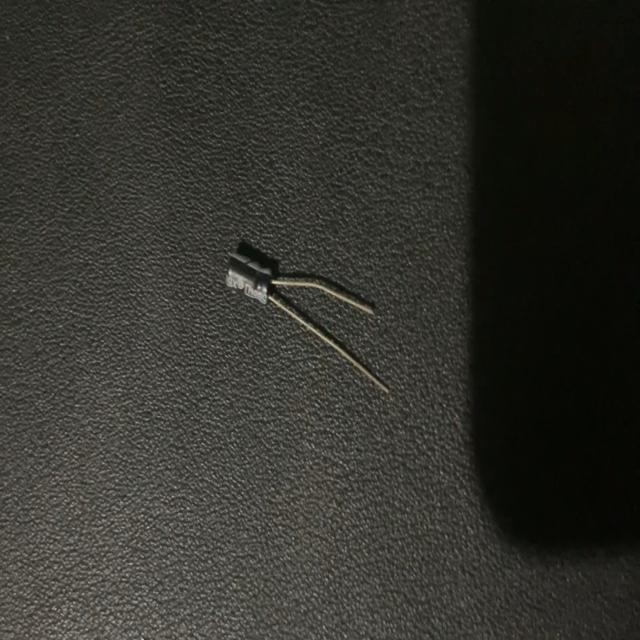capacitor: (224, 249, 390, 393)
